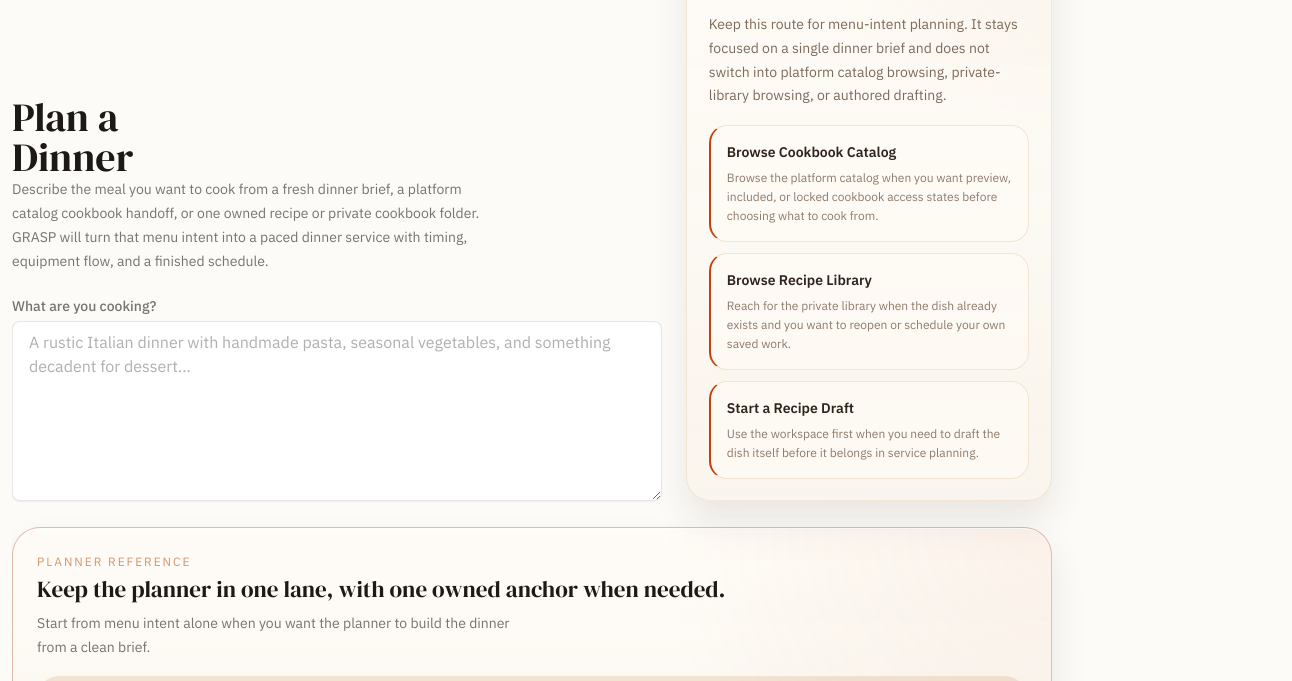
Test: NewSessionPage › keeps the submit disabled for blank menu intent text
This screenshot has width=1292, height=681.
Type "Dinner" into the text box labelled "What are you cooking?" at (337, 411), box [12, 321, 662, 501]
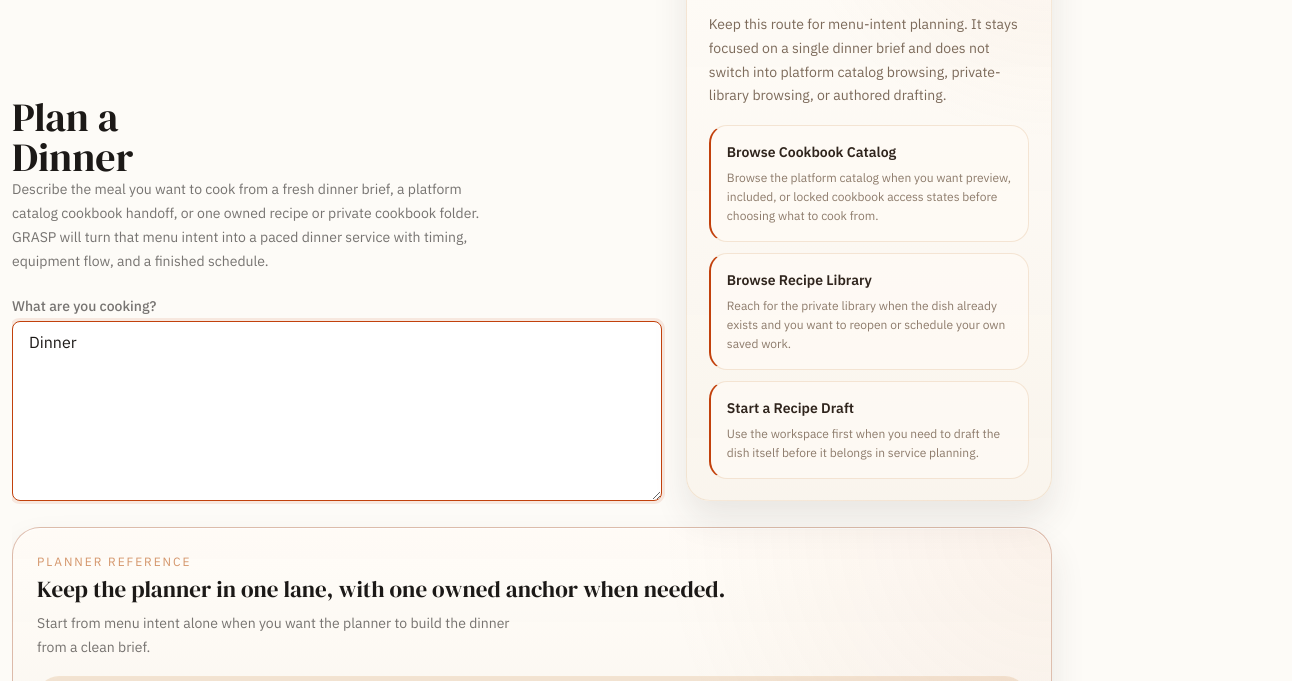
Clear the text box labelled "What are you cooking?" at (337, 411), box [12, 321, 662, 501]
(page scrolled)
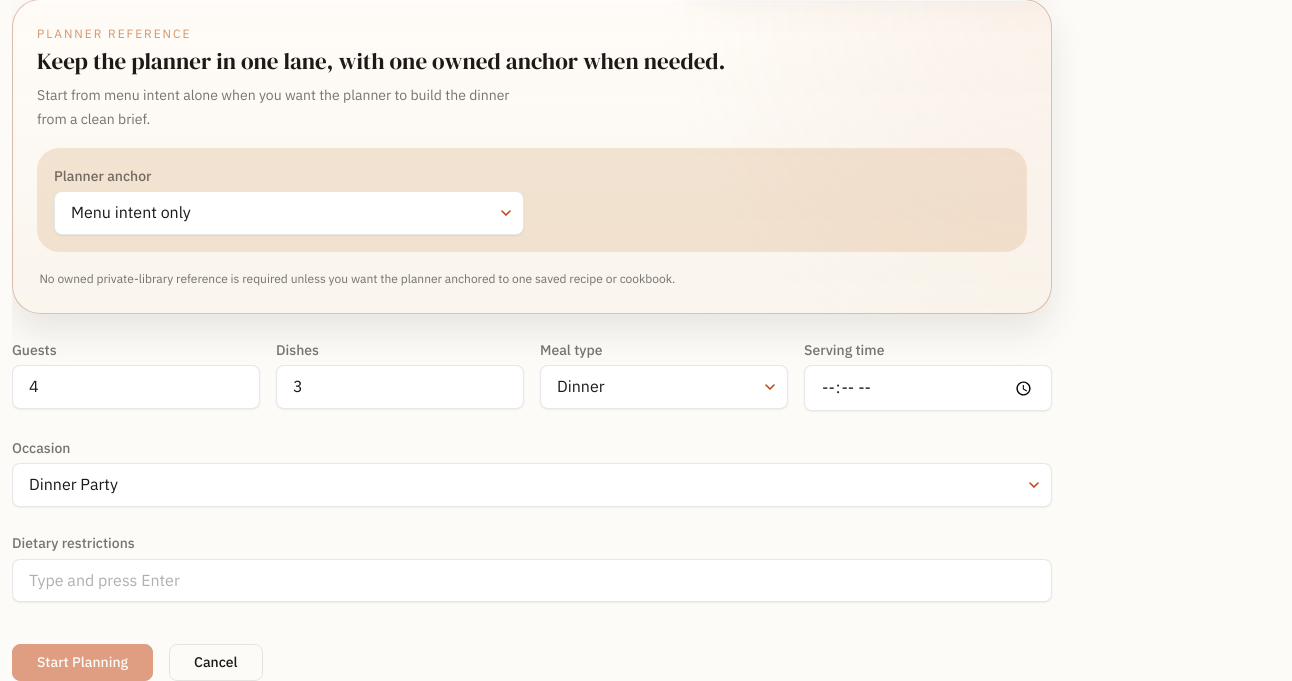
Expected: the button "Start Planning" is disabled, [12, 644, 153, 680]
